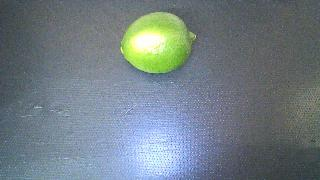EXPORTACION: (121, 12, 196, 73)
